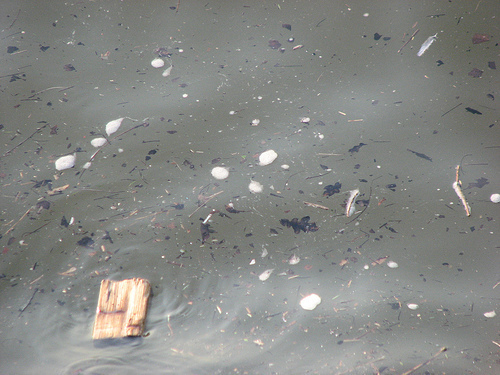litter: (95, 278, 153, 343)
